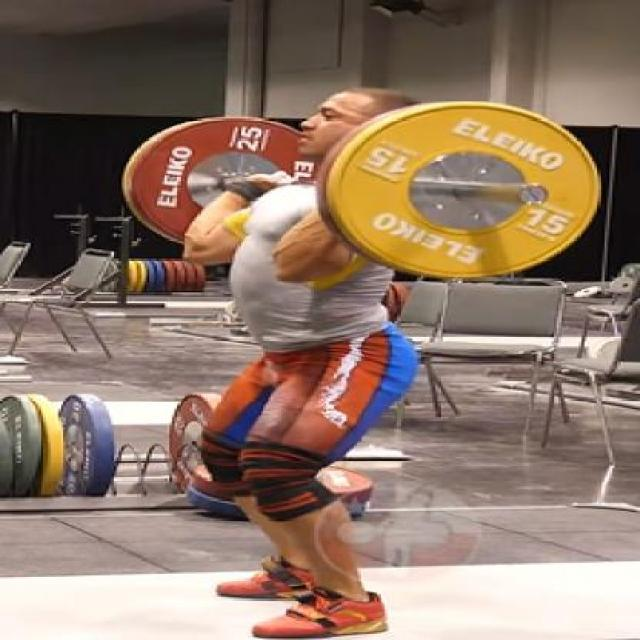Barbell: (514, 182, 556, 208)
